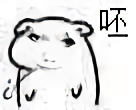dragon: (27, 32, 76, 70)
